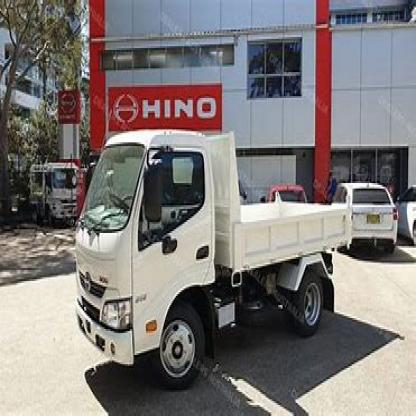dump_truck: (80, 113, 366, 375)
